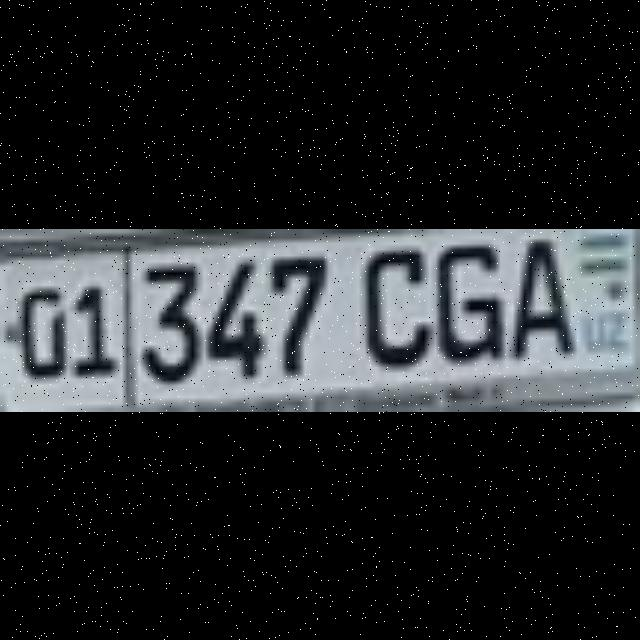0: (12, 282, 60, 371)
1: (60, 282, 106, 371)
3: (130, 258, 190, 376)
4: (196, 252, 254, 376)
7: (260, 252, 320, 371)
A: (503, 234, 562, 352)
C: (356, 240, 420, 358)
G: (427, 234, 498, 358)
